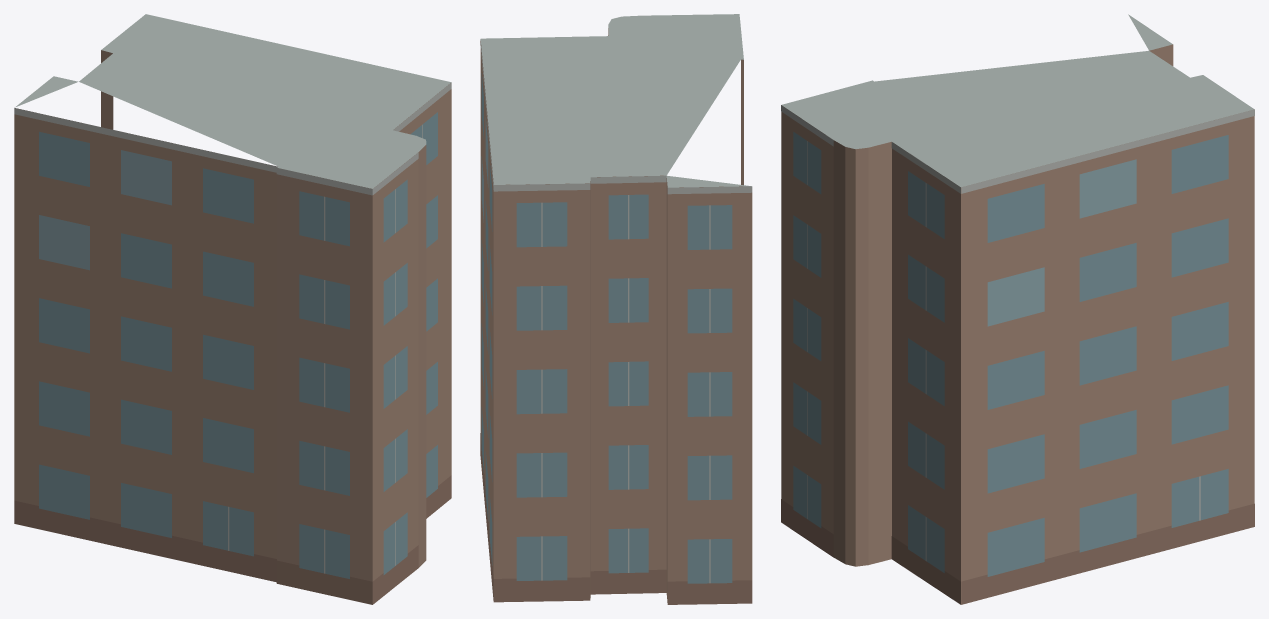
Rendered from survey-upis-32680033.glb.
The picture shows the model from 3 angles, left to right: view 1: azimuth 30°, elevation 25°; view 2: azimuth 150°, elevation 25°; view 3: azimuth 270°, elevation 25°; orthographic projection.
Parts seen in each view (by area): view 1: survey-upis-32680033.tmp; view 2: survey-upis-32680033.tmp; view 3: survey-upis-32680033.tmp.
Boxes of the visible parts, bbox=[...] form: survey-upis-32680033.tmp: bbox=[14, 14, 451, 604]; survey-upis-32680033.tmp: bbox=[480, 14, 752, 604]; survey-upis-32680033.tmp: bbox=[781, 14, 1254, 604].
Size of the model in its own units: 13.82 by 15.5 by 15.94.
